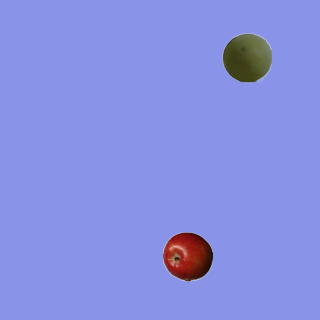Apple Braeburn: (162, 231, 212, 281)
Grape White 4: (221, 32, 271, 82)
